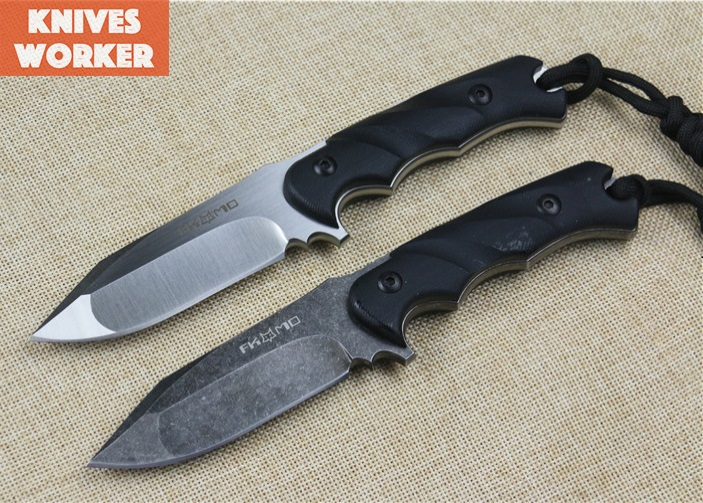knife: (20, 166, 326, 355), (83, 303, 373, 473)
